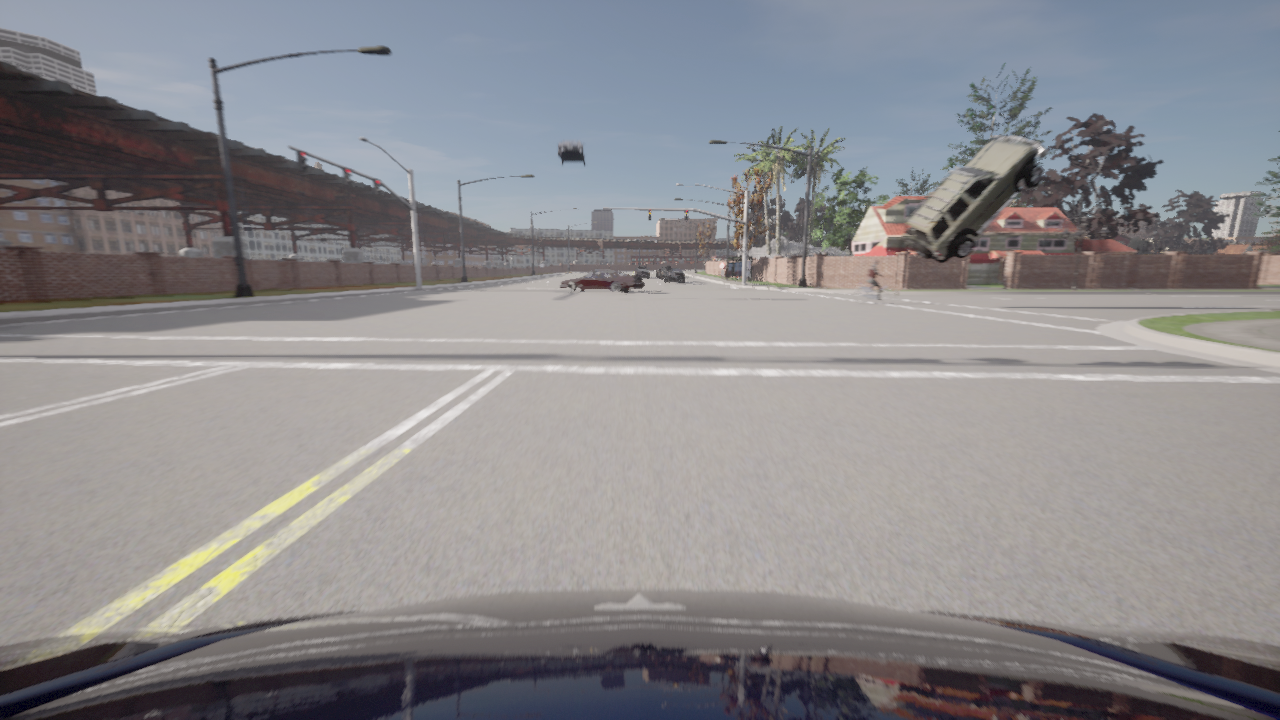cyclist: (0, 588, 1279, 719), (902, 135, 1047, 262), (558, 270, 643, 292), (854, 278, 897, 303), (556, 139, 586, 165), (665, 269, 683, 282), (635, 267, 648, 277), (658, 265, 669, 276), (660, 267, 671, 278), (656, 266, 660, 275)
